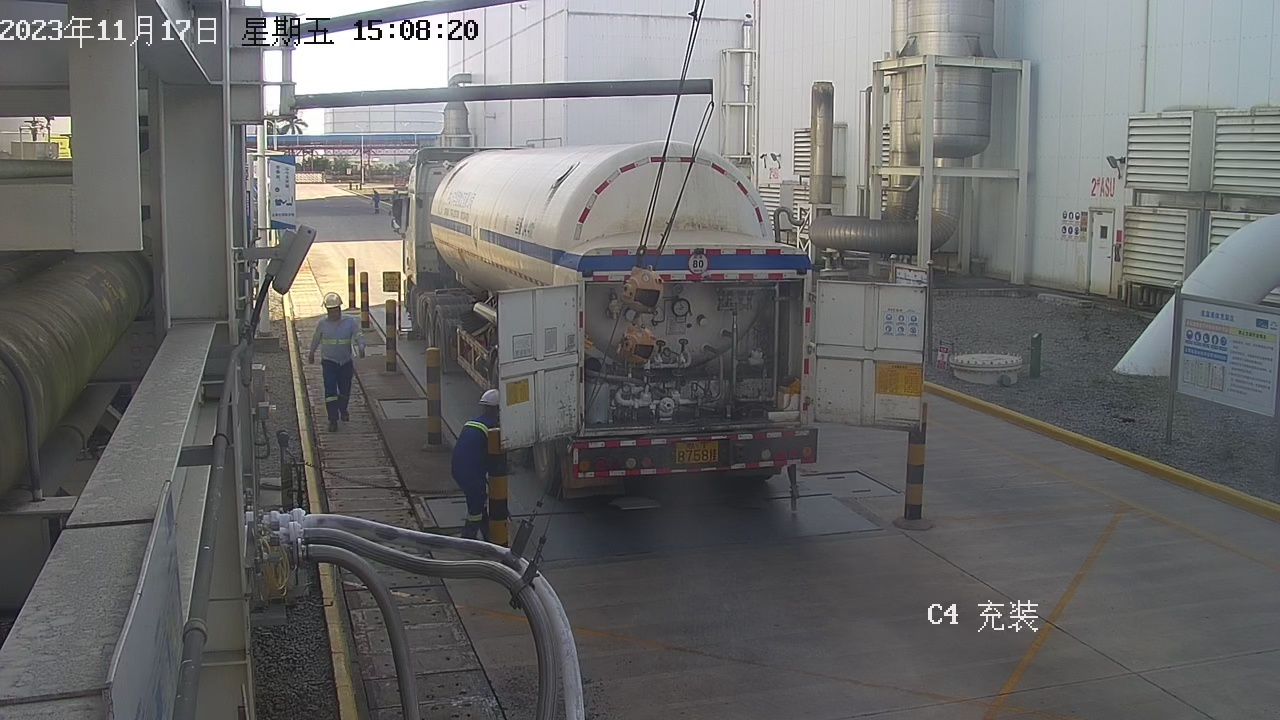Head_with_Helmet: (303, 285, 363, 322), (466, 379, 517, 417), (372, 189, 382, 198)
Uniform: (439, 404, 533, 542), (291, 314, 388, 429), (366, 194, 386, 217)
